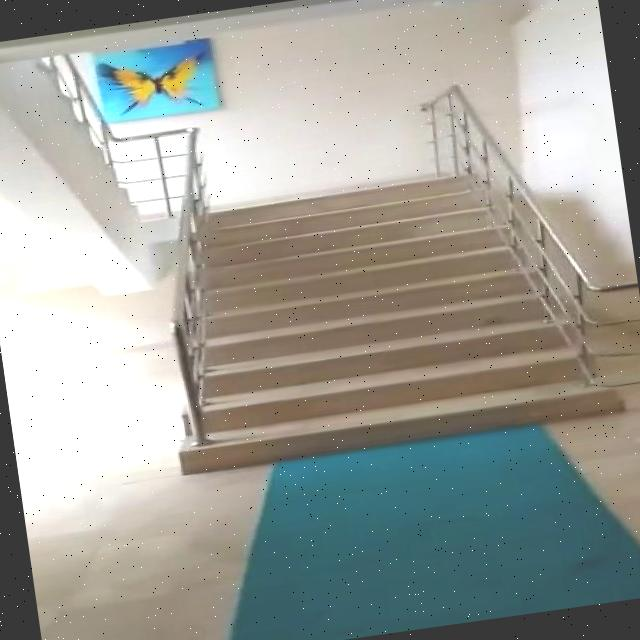stairs: (144, 154, 625, 475)
